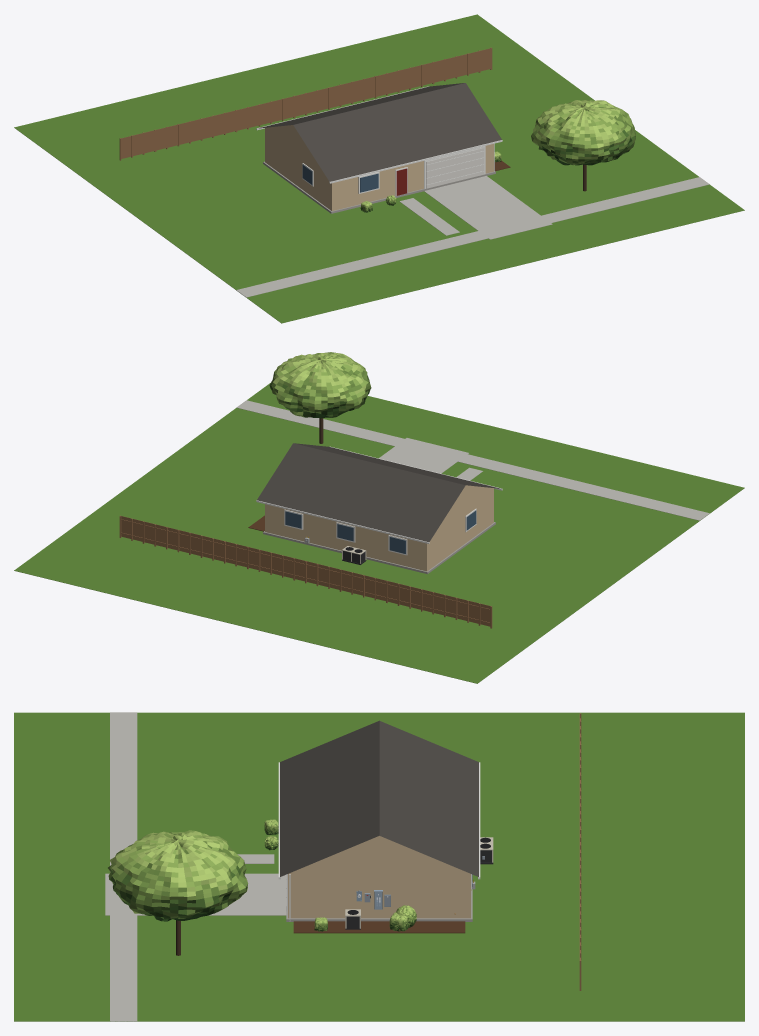
Rendered from home_04_post_install.obj.
3 renders of one model, top to bottom at view 1: azimuth 30°, elevation 25°; view 2: azimuth 150°, elevation 25°; view 3: azimuth 270°, elevation 25°, orthographic. The views are drawn at different scales.
Parts seen in each view (by area): view 1: yard, house, tree_1; view 2: yard, house, tree_1; view 3: yard, house, tree_1, mulch_bed_side.
Part boxes in pixels (x1,y1,x2,y2): yard: (14,14,744,323); house: (256,83,502,213); tree_1: (531,100,635,191); yard: (14,383,744,683); house: (256,443,502,573); tree_1: (269,352,371,443); yard: (14,712,744,1021); house: (278,720,480,921); tree_1: (108,830,248,955); mulch_bed_side: (293,921,465,933).
Size of the model in its own units: 40 by 7 by 40.
